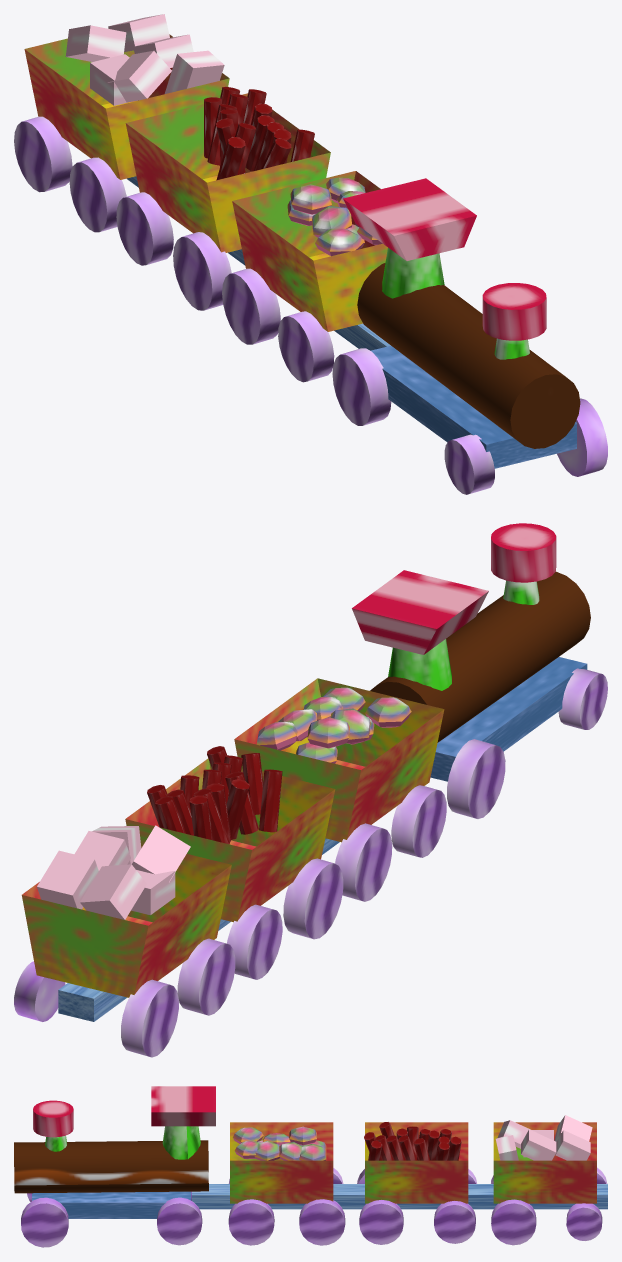
Rendered from train final animation finally.fbx.
The picture shows the model from 3 angles, top to bottom: view 1: azimuth 30°, elevation 25°; view 2: azimuth 150°, elevation 25°; view 3: azimuth 270°, elevation 25°; orthographic projection. The views are drawn at different scales.
Parts seen in each view (by area): view 1: polySurface134, polySurface161, polySurface160, polySurface174, polySurface129, polySurface135, polySurface128, polySurface145, polySurface131, polySurface158, polySurface153, polySurface154 (+18 smaller); view 2: polySurface174, polySurface134, polySurface160, polySurface161, polySurface129, polySurface135, polySurface153, polySurface128, polySurface131, polySurface158, polySurface157, polySurface145 (+21 smaller); view 3: polySurface134, polySurface160, polySurface161, polySurface174, polySurface126, polySurface135, polySurface129, polySurface182, polySurface147, polySurface148, polySurface132, polySurface173 (+25 smaller).
Part boxes in pixels (left/top/right/bottom): polySurface134: left=357, top=263, right=580, bottom=448; polySurface161: left=125, top=93, right=330, bottom=252; polySurface160: left=232, top=171, right=387, bottom=331; polySurface174: left=24, top=34, right=229, bottom=179; polySurface129: left=343, top=178, right=476, bottom=260; polySurface135: left=370, top=346, right=576, bottom=468; polySurface128: left=332, top=348, right=391, bottom=425; polySurface145: left=222, top=268, right=280, bottom=344; polySurface131: left=482, top=283, right=546, bottom=340; polySurface158: left=14, top=116, right=72, bottom=192; polySurface153: left=173, top=232, right=231, bottom=310; polySurface154: left=116, top=192, right=173, bottom=265; polySurface174: left=21, top=842, right=231, bottom=997; polySurface134: left=370, top=571, right=590, bottom=742; polySurface160: left=234, top=678, right=444, bottom=842; polySurface161: left=125, top=758, right=335, bottom=922; polySurface129: left=352, top=570, right=488, bottom=654; polySurface135: left=430, top=657, right=587, bottom=781; polySurface153: left=283, top=858, right=343, bottom=939; polySurface128: left=447, top=739, right=505, bottom=818; polySurface131: left=491, top=523, right=556, bottom=582; polySurface158: left=121, top=979, right=178, bottom=1057; polySurface157: left=177, top=938, right=235, bottom=1015; polySurface145: left=335, top=823, right=392, bottom=901; polySurface134: left=14, top=1140, right=208, bottom=1193; polySurface160: left=230, top=1122, right=333, bottom=1203; polySurface161: left=365, top=1122, right=468, bottom=1203; polySurface174: left=493, top=1122, right=596, bottom=1203; polySurface126: left=191, top=1184, right=607, bottom=1209; polySurface135: left=32, top=1191, right=190, bottom=1218; polySurface129: left=151, top=1086, right=215, bottom=1126; polySurface182: left=21, top=1197, right=68, bottom=1247; polySurface147: left=299, top=1199, right=345, bottom=1245; polySurface148: left=228, top=1199, right=274, bottom=1245; polySurface132: left=157, top=1197, right=202, bottom=1245; polySurface173: left=491, top=1199, right=536, bottom=1245.
Size of the model in its own units: 3.86 by 5.46 by 23.12.
1 material, 1 textured.
